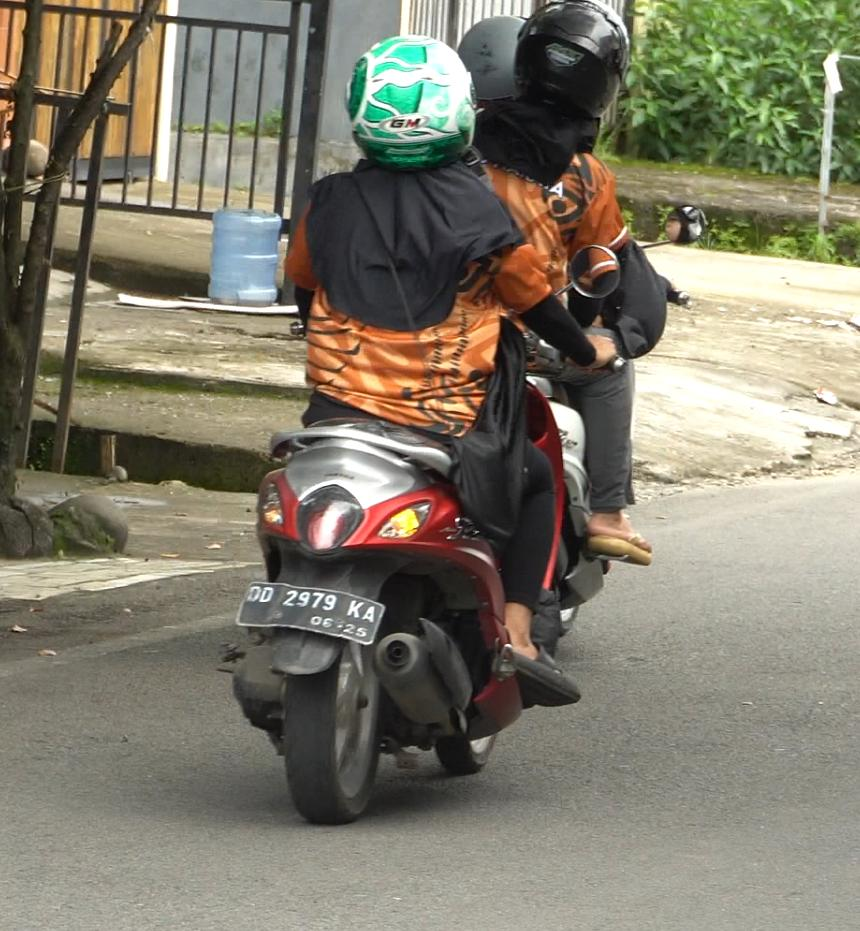number-plate: (236, 574, 392, 653)
